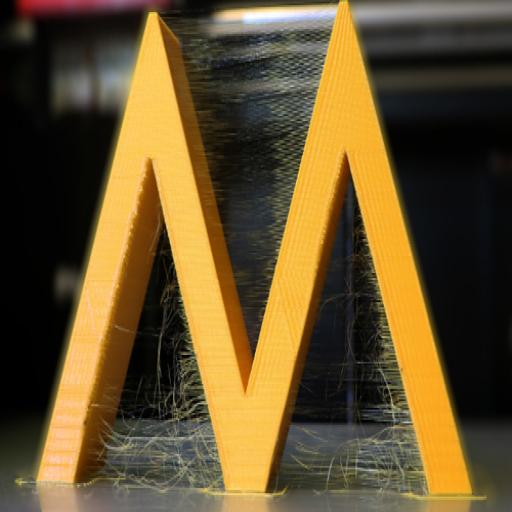stringing: (162, 26, 341, 220), (88, 282, 184, 488), (305, 258, 391, 482)
